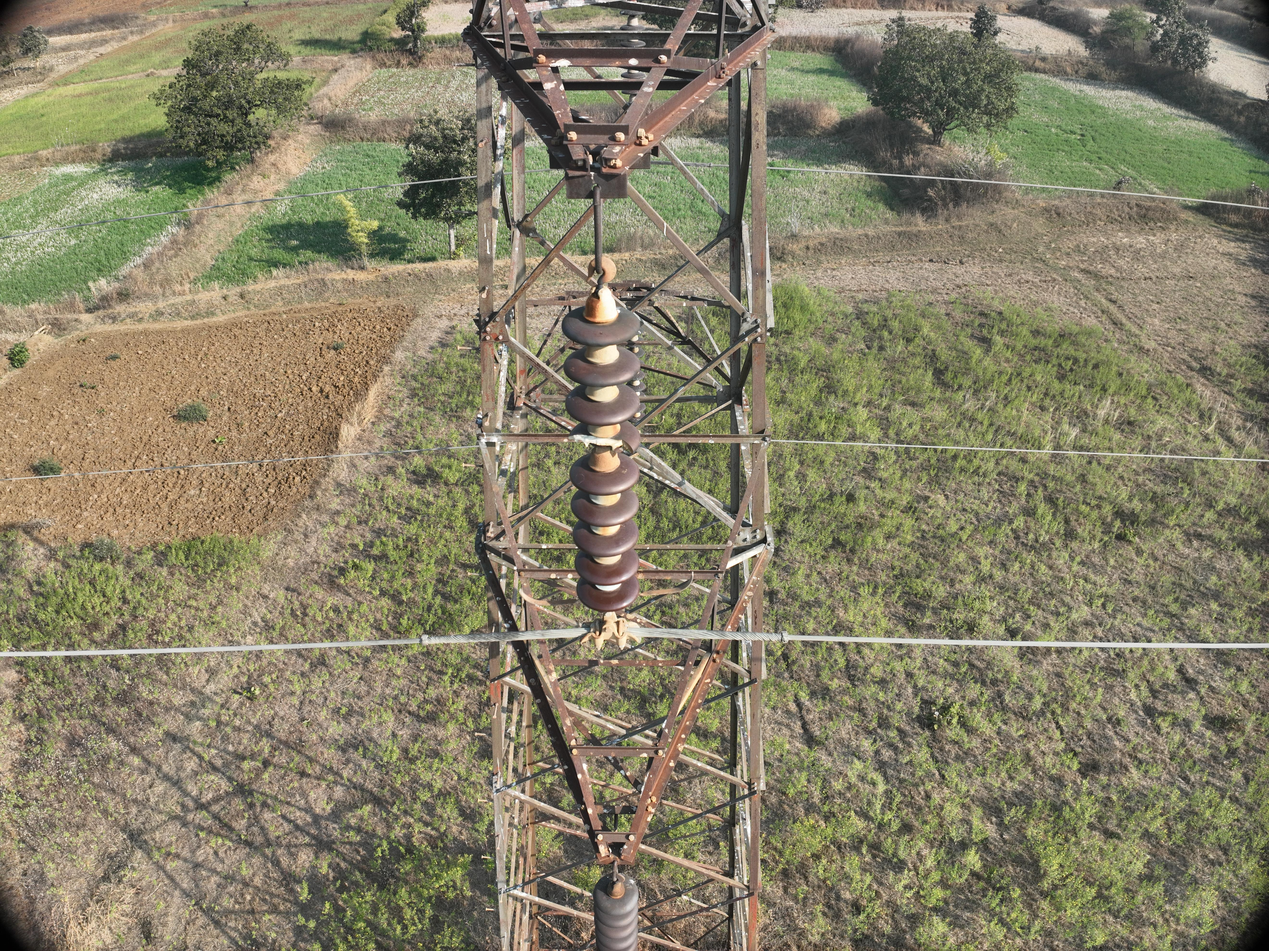broken_insulator: (561, 419, 649, 462)
